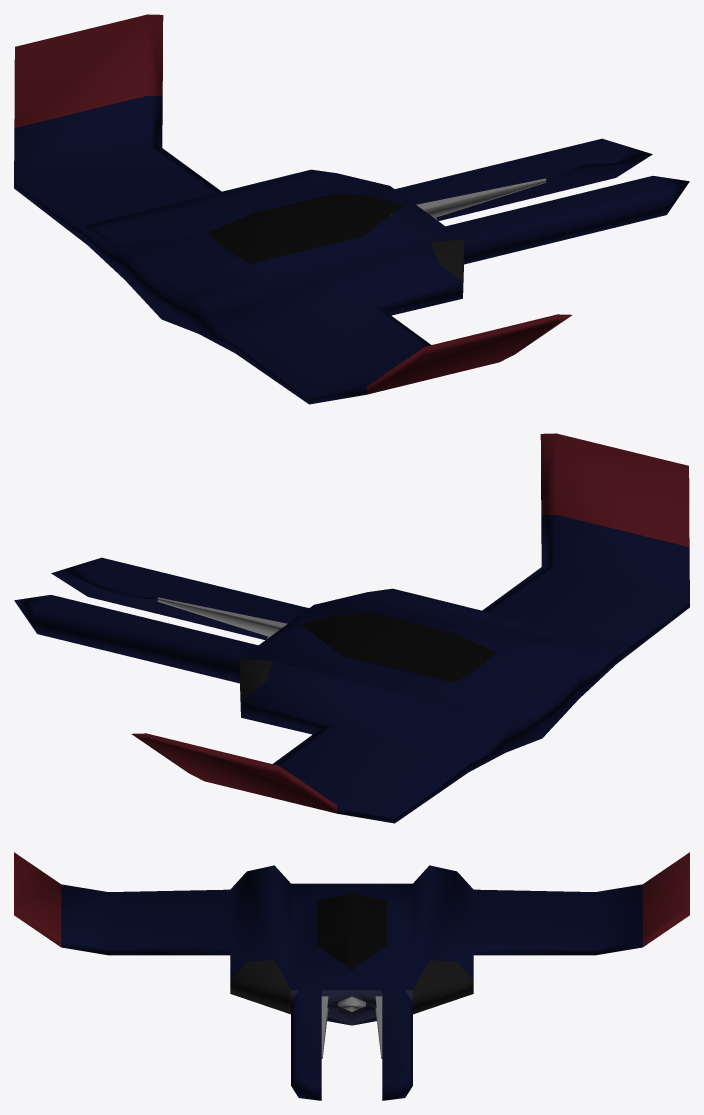
File: miniplane.fbx
3 renders of one model, top to bottom at view 1: azimuth 30°, elevation 25°; view 2: azimuth 150°, elevation 25°; view 3: azimuth 270°, elevation 25°, orthographic. The views are drawn at different scales.
Parts seen in each view (by area): view 1: Cube; view 2: Cube; view 3: Cube.
Boxes of the visible parts, x1,y1,x2,y2 form: Cube: [14, 14, 689, 404]; Cube: [14, 433, 689, 823]; Cube: [14, 852, 689, 1100].
Bounding box in the file's own units: 394 × 78.69 × 535.
